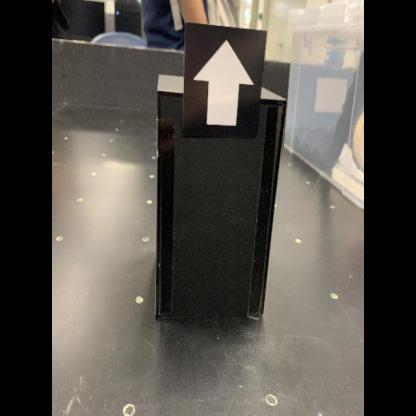up: (181, 20, 269, 145)
